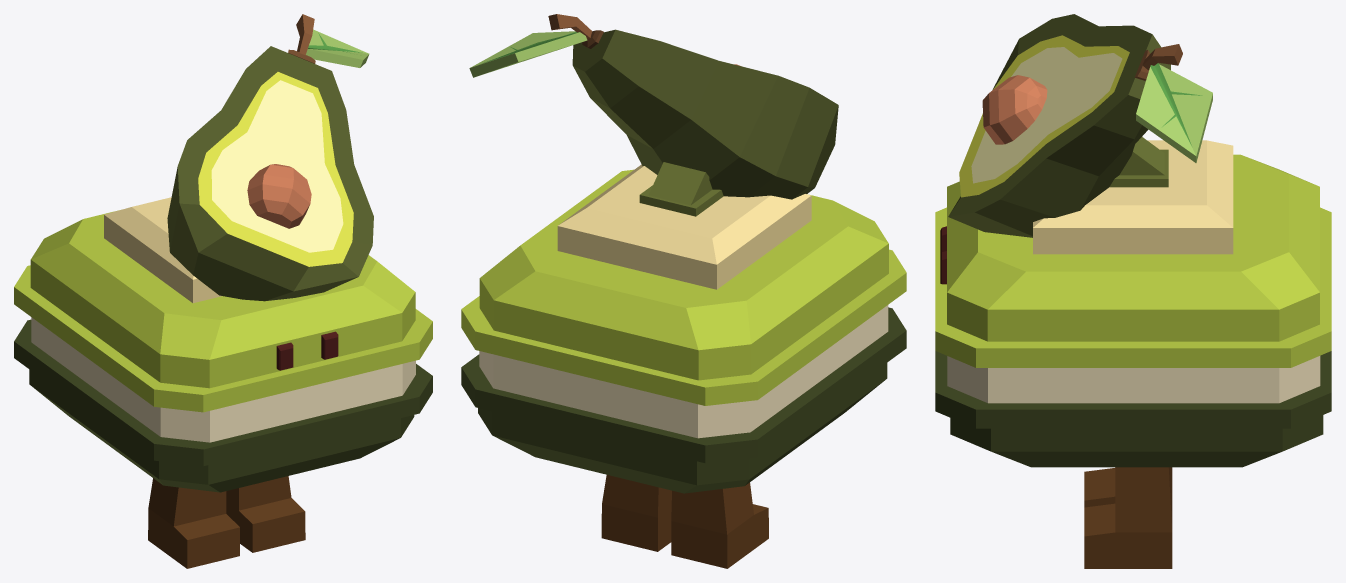
Rendered from st1_1 block.fbx.
3 renders of one model, left to right at view 1: azimuth 30°, elevation 25°; view 2: azimuth 150°, elevation 25°; view 3: azimuth 270°, elevation 25°, orthographic. The views are drawn at different scales.
Visible parts, largest first — view 1: st1_1_block_head, st1_1_block_down, abocado_skin1, abocado_skin2, st1_1_block_middle, st1_1_block_L_leg, st1_1_block_head_ad1, st1_1_block_R_leg, abocado_seed, leaf_body, abocado_branch; view 2: st1_1_block_head, abocado_skin1, st1_1_block_down, st1_1_block_head_ad1, st1_1_block_middle, st1_1_block_L_leg, st1_1_block_R_leg, st1_1_block_head_ad2, leaf_body, abocado_branch; view 3: st1_1_block_head, st1_1_block_down, abocado_skin1, st1_1_block_head_ad1, st1_1_block_middle, abocado_skin2, st1_1_block_R_leg, leaf_body, abocado_seed, st1_1_block_head_ad2, st1_1_block_L_leg, abocado_branch (+1 smaller).
Part boxes in pixels (x1,y1,x2,y2): st1_1_block_head: (14, 210, 432, 412); st1_1_block_down: (14, 319, 432, 492); abocado_skin1: (167, 46, 373, 301); abocado_skin2: (198, 72, 353, 266); st1_1_block_middle: (31, 317, 415, 442); st1_1_block_L_leg: (148, 478, 239, 568); st1_1_block_head_ad1: (104, 197, 221, 303); st1_1_block_R_leg: (226, 476, 305, 552); abocado_seed: (247, 164, 311, 228); leaf_body: (306, 29, 369, 67); abocado_branch: (296, 14, 314, 55); st1_1_block_head: (461, 169, 906, 405); abocado_skin1: (572, 29, 838, 199); st1_1_block_down: (461, 307, 906, 493); st1_1_block_head_ad1: (557, 164, 811, 289); st1_1_block_middle: (479, 305, 888, 438); st1_1_block_L_leg: (671, 482, 768, 568); st1_1_block_R_leg: (601, 475, 671, 551); st1_1_block_head_ad2: (639, 162, 723, 216); leaf_body: (469, 31, 587, 77); abocado_branch: (548, 14, 591, 38); st1_1_block_head: (935, 154, 1331, 367); st1_1_block_down: (935, 351, 1331, 467); abocado_skin1: (948, 14, 1170, 237); st1_1_block_head_ad1: (1033, 140, 1233, 254); st1_1_block_middle: (947, 356, 1320, 403); abocado_skin2: (959, 35, 1129, 197); st1_1_block_R_leg: (1084, 467, 1172, 568); leaf_body: (1136, 64, 1212, 162); abocado_seed: (982, 75, 1047, 144); st1_1_block_head_ad2: (1109, 137, 1168, 187); st1_1_block_L_leg: (1084, 467, 1172, 507); abocado_branch: (1142, 44, 1182, 69).
Size of the model in its own units: 500 by 740 by 487.
